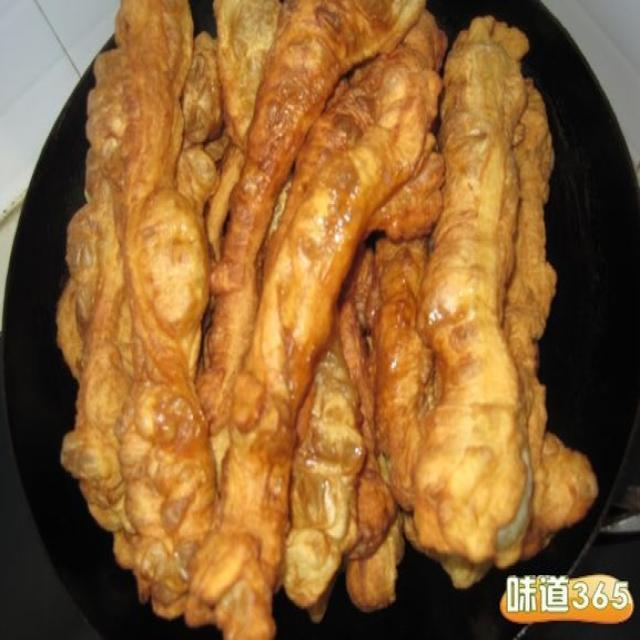炸货点心: (56, 13, 601, 602)
